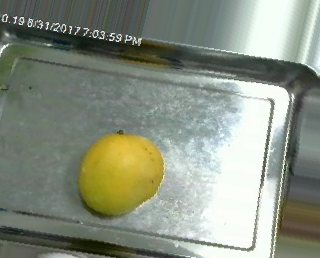Mango: (70, 129, 166, 220)
